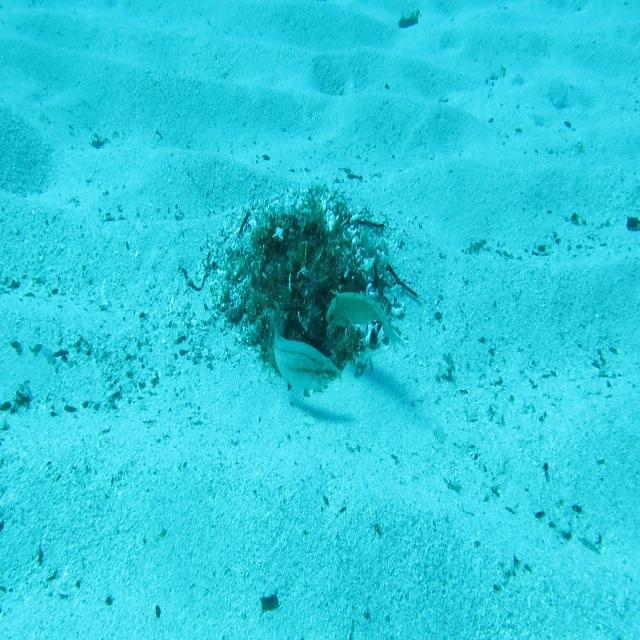DAN_CIRC: (325, 286, 406, 352)
core_nest: (279, 219, 329, 266)
female: (272, 310, 342, 396)
nest: (190, 166, 412, 420)
vegetation: (396, 11, 422, 28), (260, 592, 280, 612), (626, 214, 640, 231)
